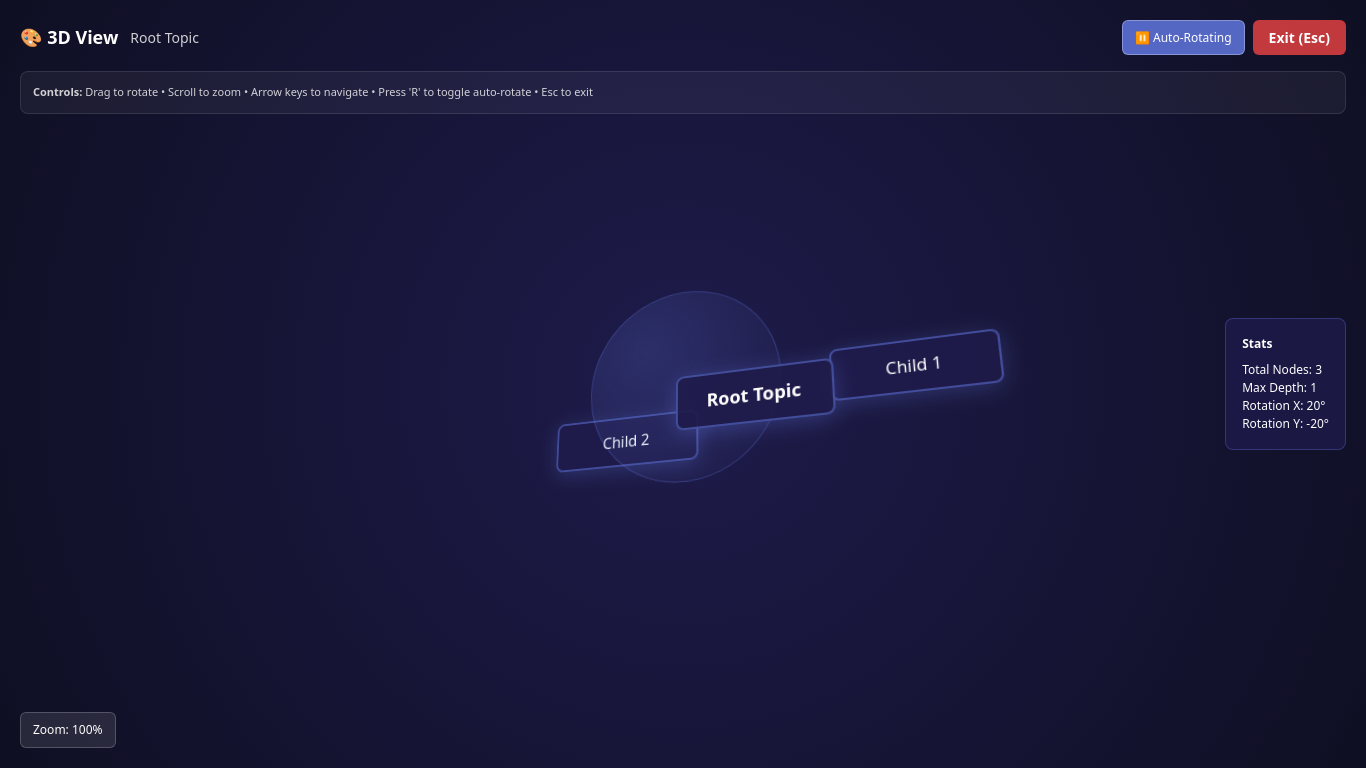
ThreeDView › should handle mouse drag for rotation
Press the mouse on the element named "3D view of mind map": (683, 384) [0,0,1365,767]
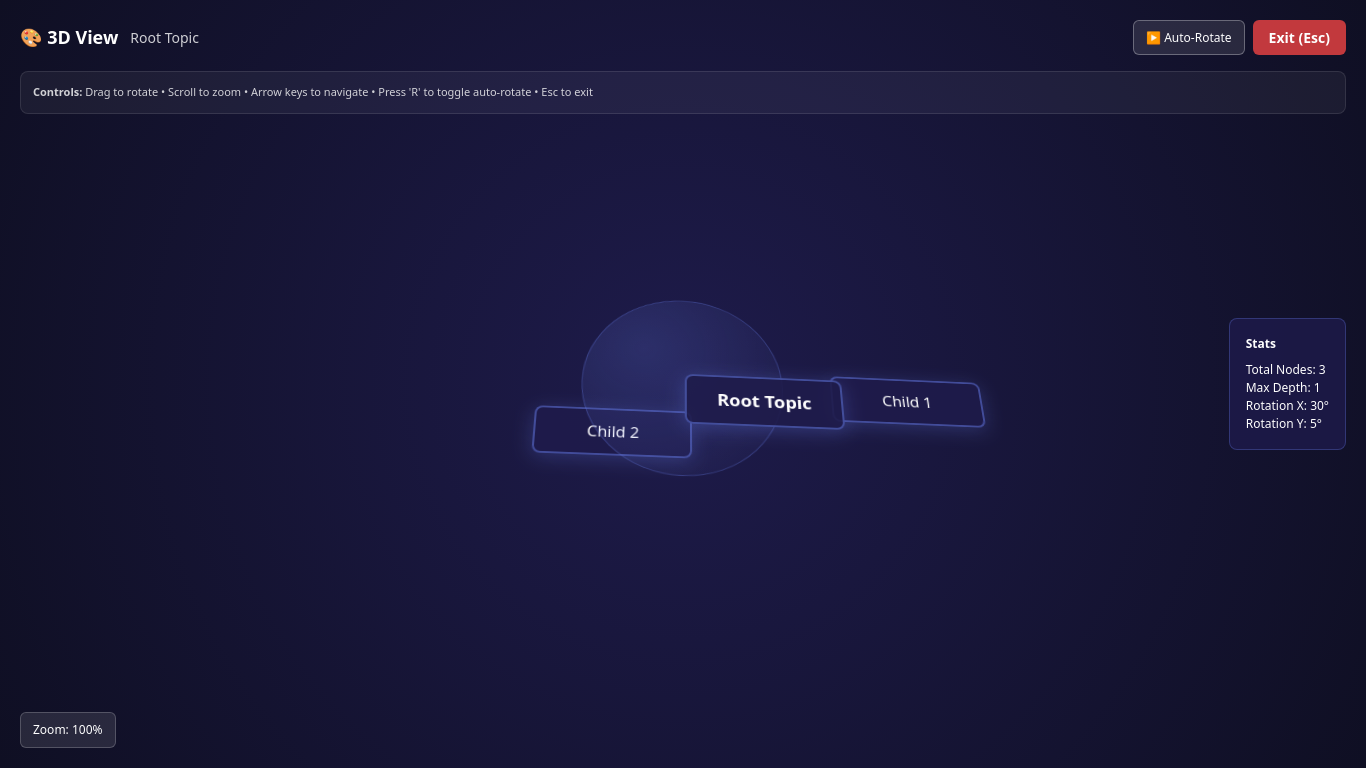
Check: the button with aria-label "Start auto-rotation" is shown, box [1133,20,1245,55]
